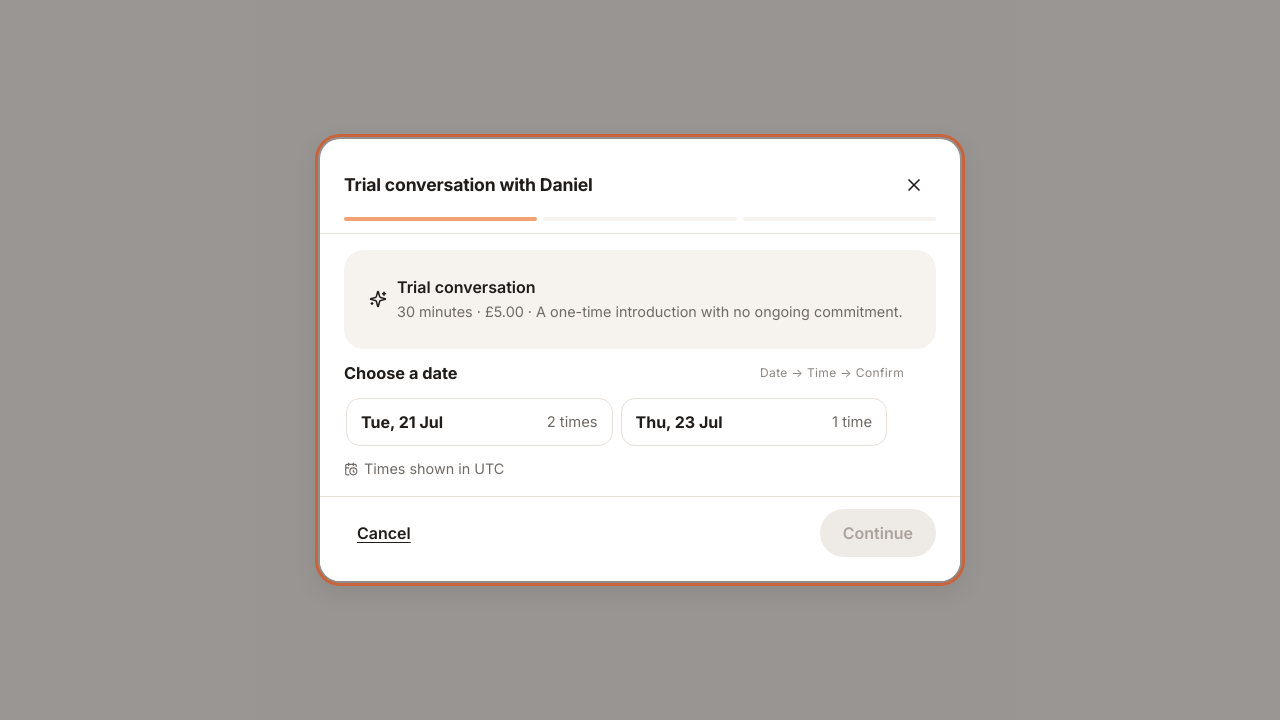
Test: test-call flow › a single eligible member is preselected with a simple confirmation
Expected: the heading "Choose a date" is shown, x1=344 y1=361 x2=458 y2=386
Click the button with aria-label "21 July" at (402, 422), box x1=346 y1=398 x2=612 y2=446
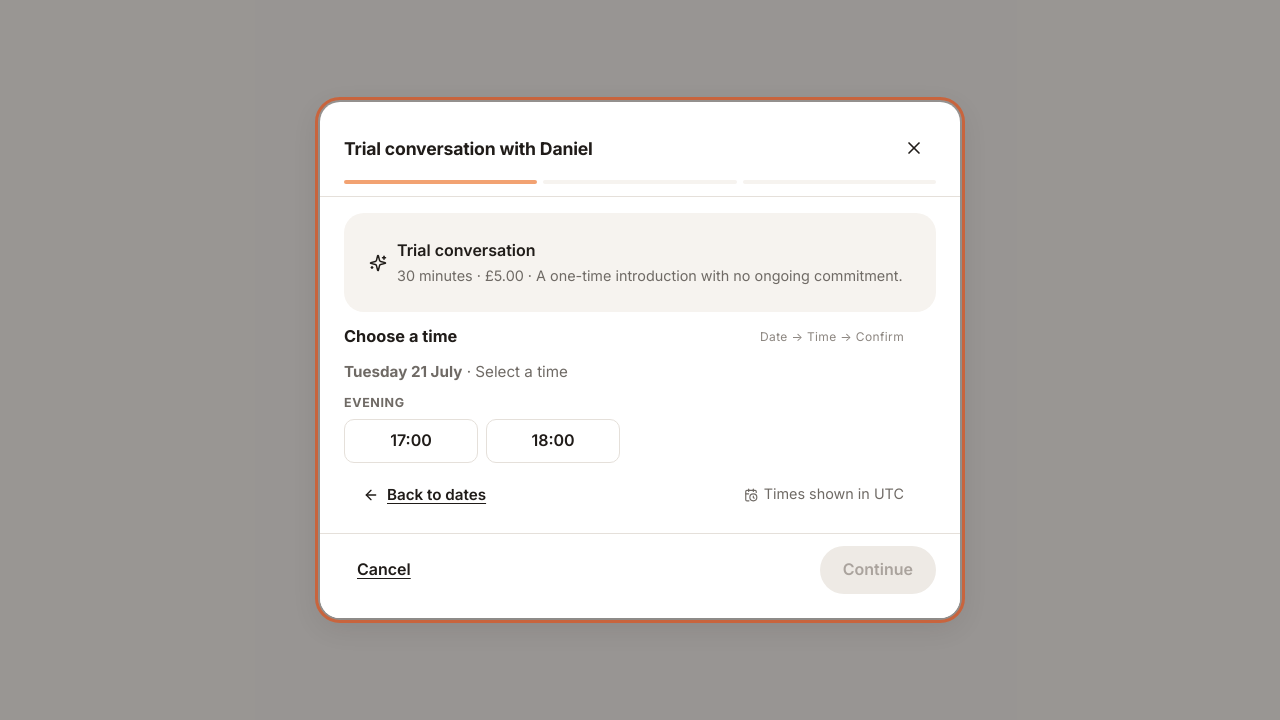
Click the button named "at 18:00" at (553, 441), box x1=486 y1=419 x2=620 y2=463
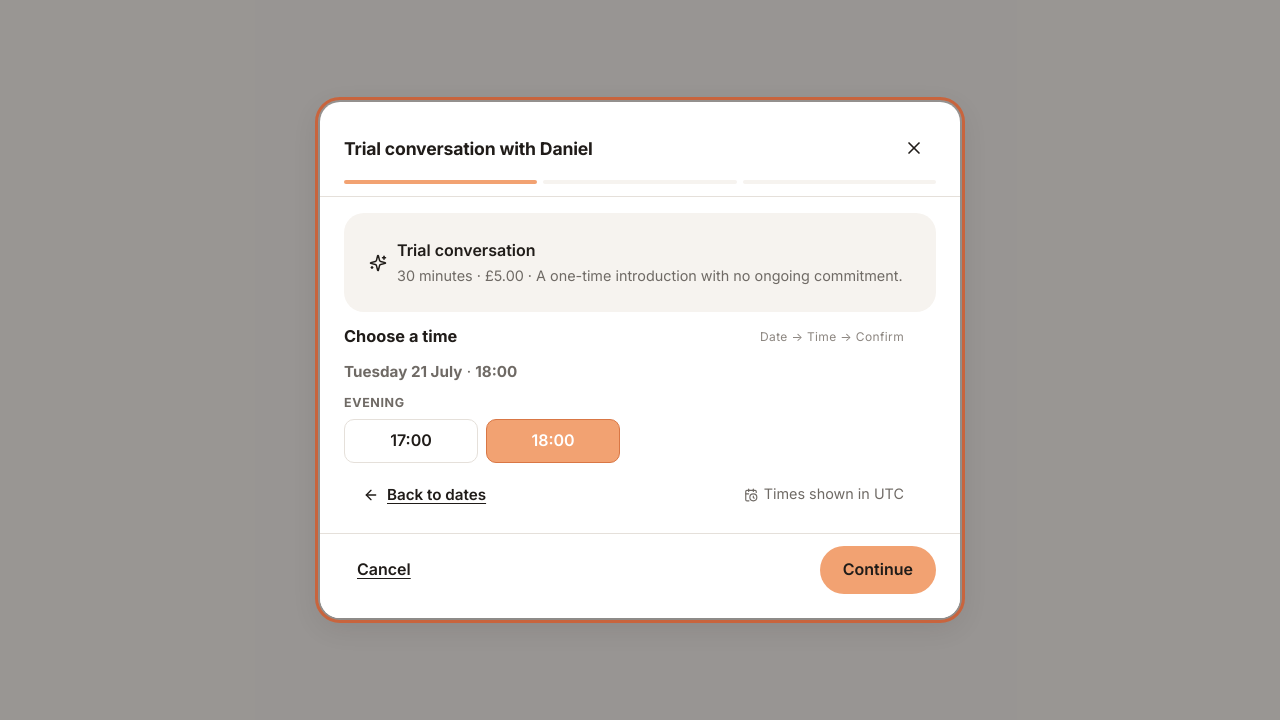
Click the button "Continue" at (878, 570), box x1=820 y1=546 x2=936 y2=594
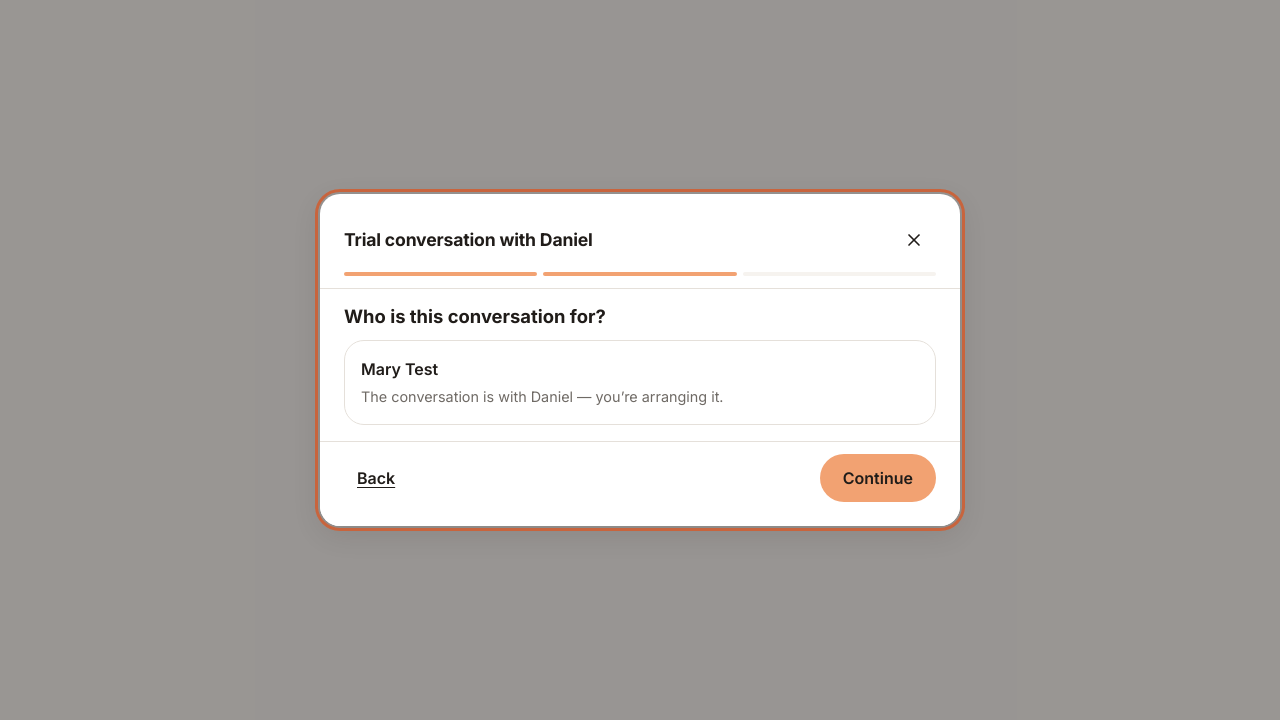
Result: the heading "Who is this conversation for?" is shown at x1=344 y1=305 x2=606 y2=327
Result: the text "Mary Test" is shown at x1=361 y1=359 x2=438 y2=379
